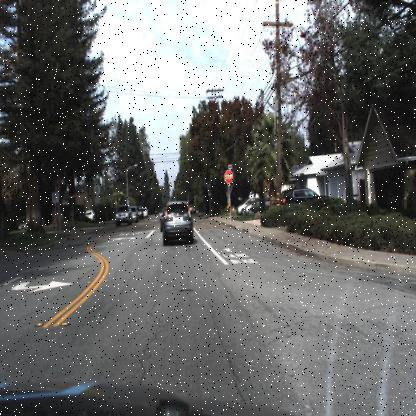car: (160, 199, 194, 248), (276, 187, 331, 208), (113, 201, 132, 229), (244, 199, 269, 219), (130, 206, 139, 226)
